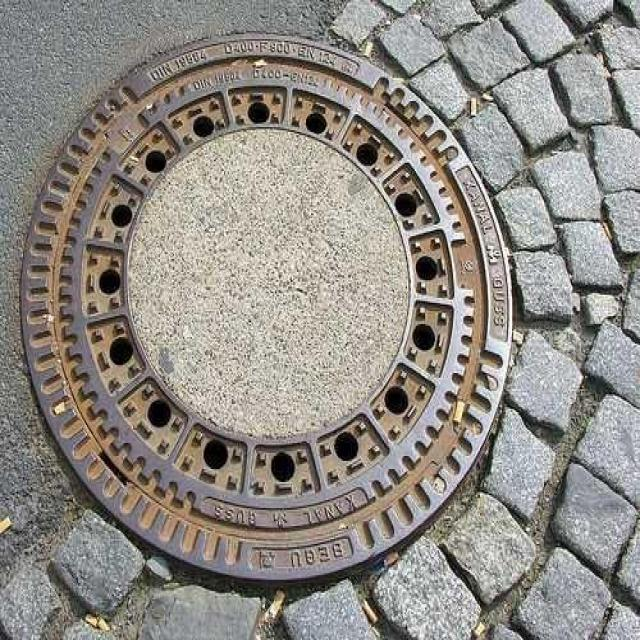manhole: (22, 33, 513, 586)
